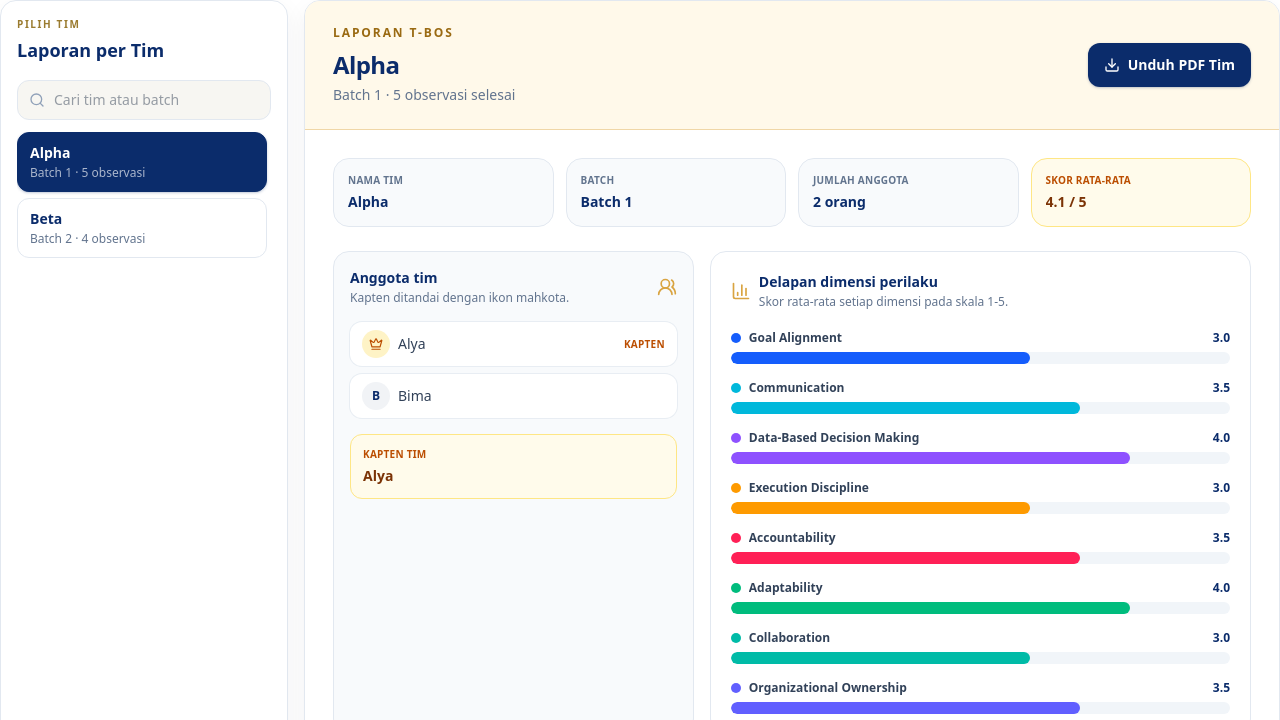
Test: TbosTeamReports › switches the report when an admin selects another team
This screenshot has width=1280, height=720.
Click the button "Beta Batch 2 · 4 observasi".
click(142, 228)  # box [17, 198, 267, 258]
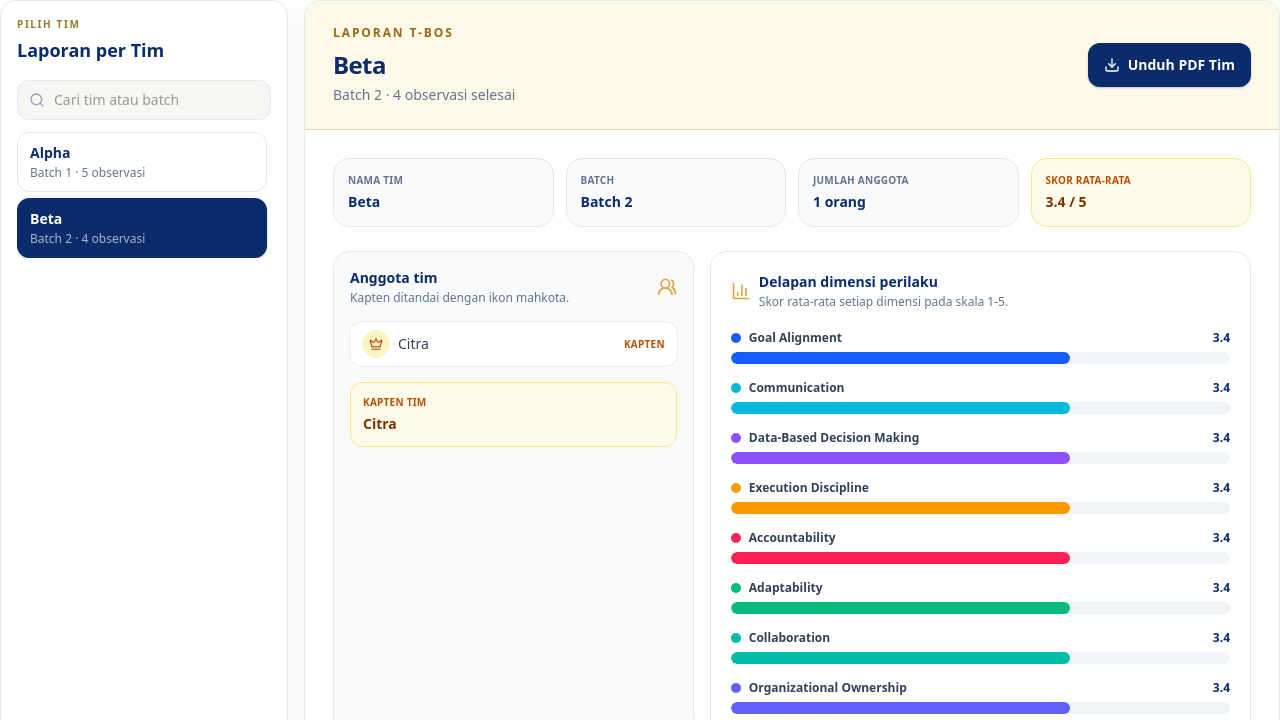
Check: the heading "Beta" is shown, box [333, 48, 386, 81]
Check: the text "Citra" is shown 2 times, box [398, 334, 429, 353]; [363, 414, 397, 433]
